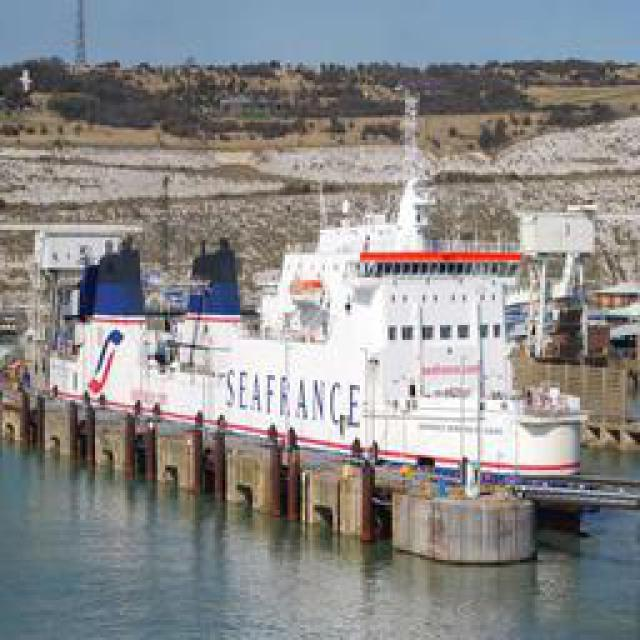Ship: (27, 204, 607, 474)
